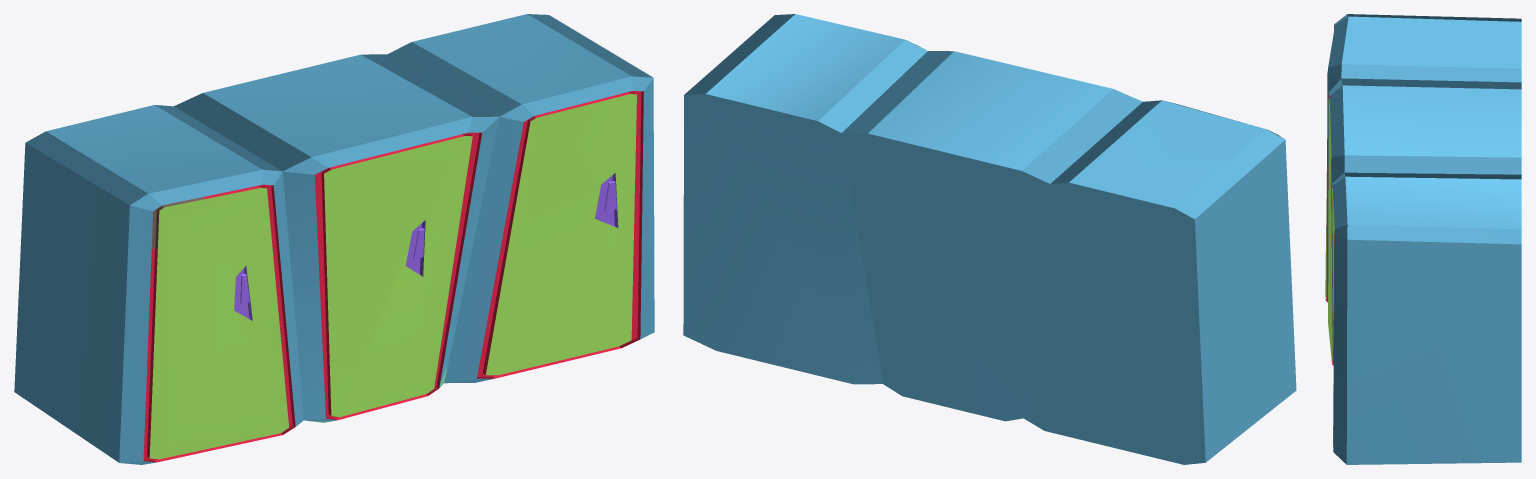
File: Cabinets_T1.fbx
3 views of the same model, side by side, from view 1: azimuth 30°, elevation 25°; view 2: azimuth 150°, elevation 25°; view 3: azimuth 270°, elevation 25° (orthographic). The views are drawn at different scales.
Parts seen in each view (by area): view 1: T1_Cabinets; view 2: T1_Cabinets; view 3: T1_Cabinets.
Part boxes in pixels (x1=…): T1_Cabinets: x1=14, y1=14, x2=654, y2=464; T1_Cabinets: x1=683, y1=14, x2=1296, y2=464; T1_Cabinets: x1=1325, y1=14, x2=1521, y2=464.
Size of the model in its own units: 225 by 107 by 80.02.
